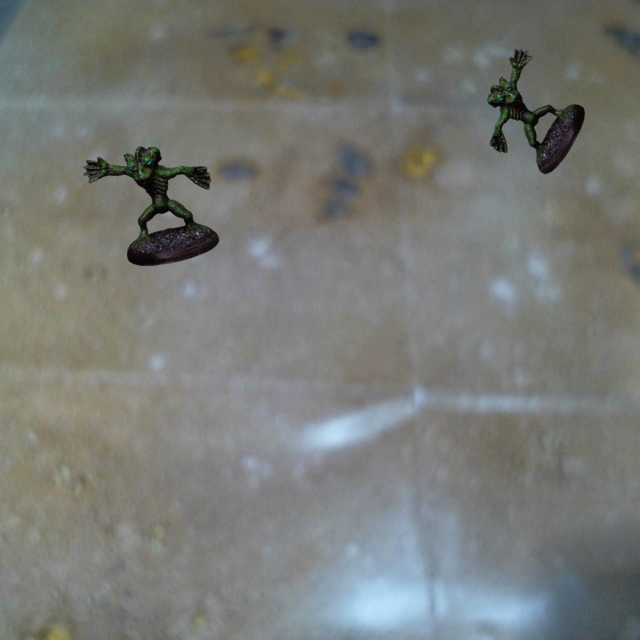pieza_juego: (83, 146, 218, 265), (487, 48, 584, 173)
